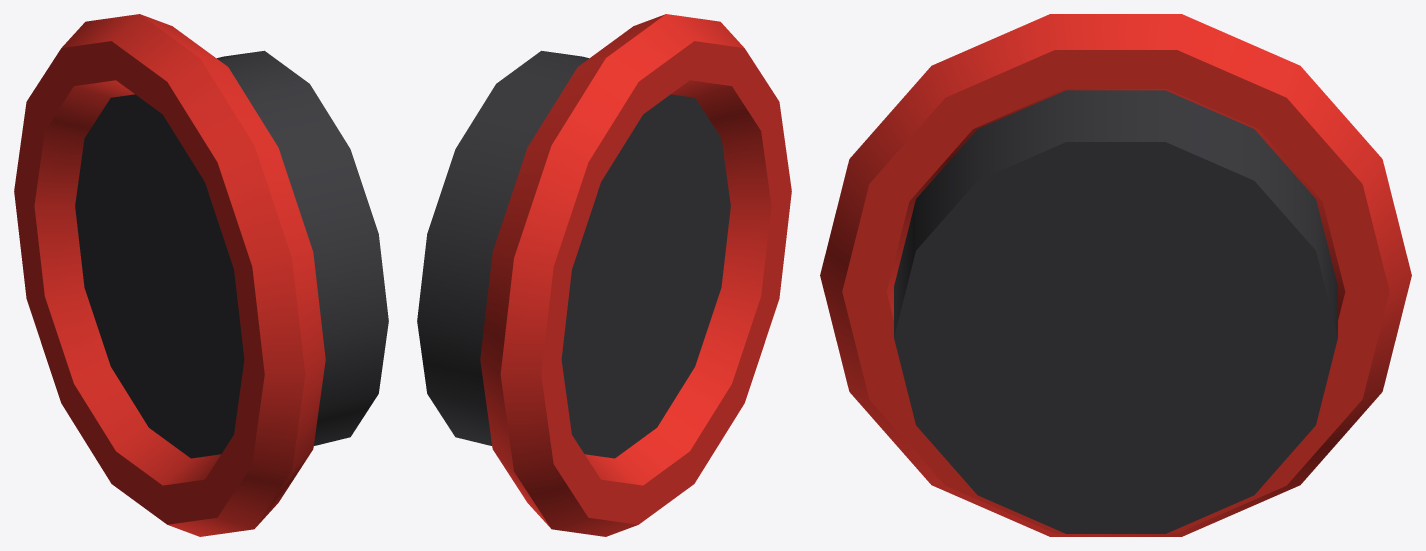
File: halo_lod1.glb
3 views of the same model, side by side, from view 1: azimuth 30°, elevation 25°; view 2: azimuth 150°, elevation 25°; view 3: azimuth 270°, elevation 25° (orthographic). The views are drawn at different scales.
Visible parts, largest first — view 1: halo_lod1; view 2: halo_lod1; view 3: halo_lod1.
Boxes of the visible parts, bbox=[...] form: halo_lod1: bbox=[14, 14, 388, 536]; halo_lod1: bbox=[417, 14, 791, 536]; halo_lod1: bbox=[820, 14, 1411, 536].
Size of the model in its own units: 0.0252 by 0.078 by 0.08.
